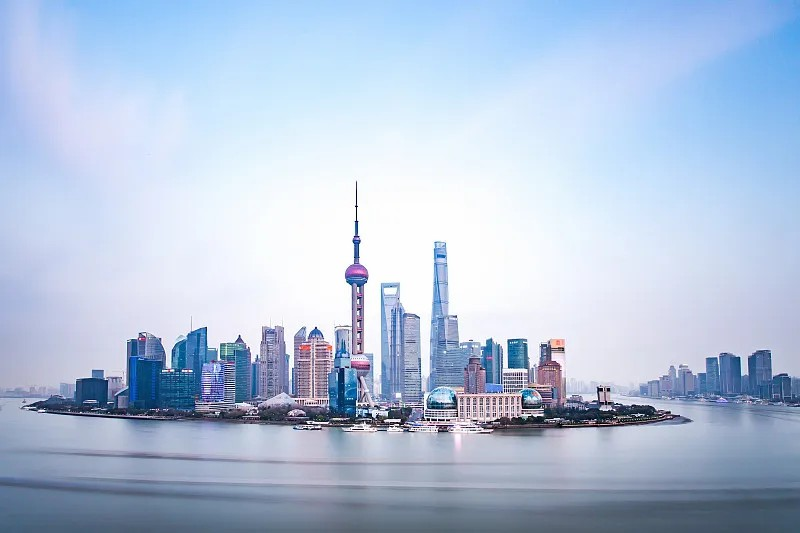Oriental: (345, 181, 376, 406)
